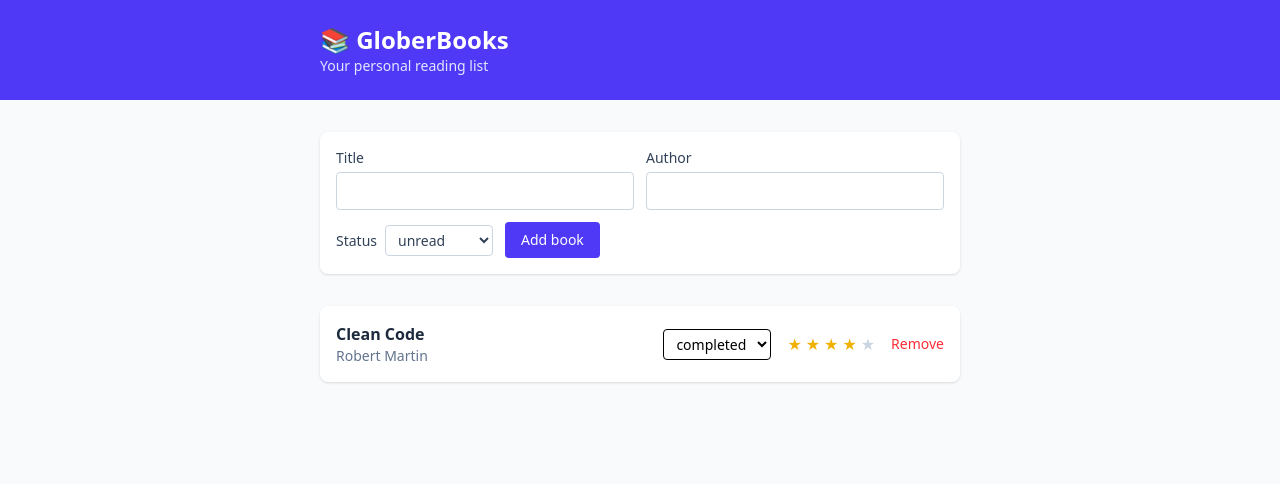
Test: App mutation error feedback (tasks 2.1 + 2.2) › shows the error banner when a rating fails and keeps the book list stable
Check: the element named "Rating of Clean Code" is shown, box x1=787 y1=332 x2=875 y2=356
Click the button named "Rate 5 stars".
click(868, 344)  # box x1=861 y1=332 x2=875 y2=356
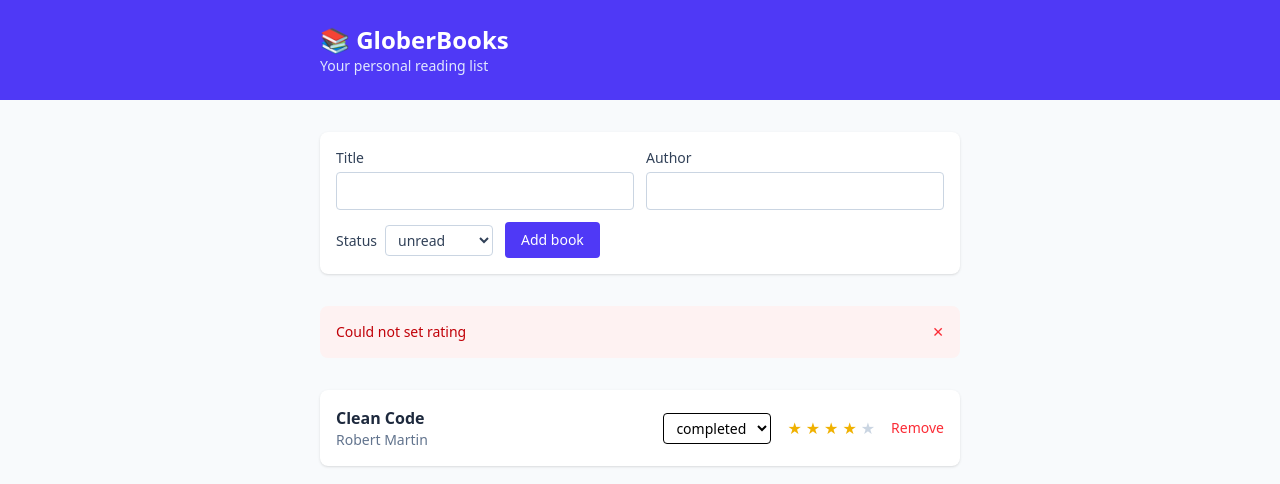
Check: the text "Clean Code" is shown, box x1=336 y1=407 x2=424 y2=429
Check: the message "Could not set rating ✕" is shown, box x1=320 y1=306 x2=960 y2=358
Check: the message shows "Could not set rating", box x1=336 y1=322 x2=466 y2=341
